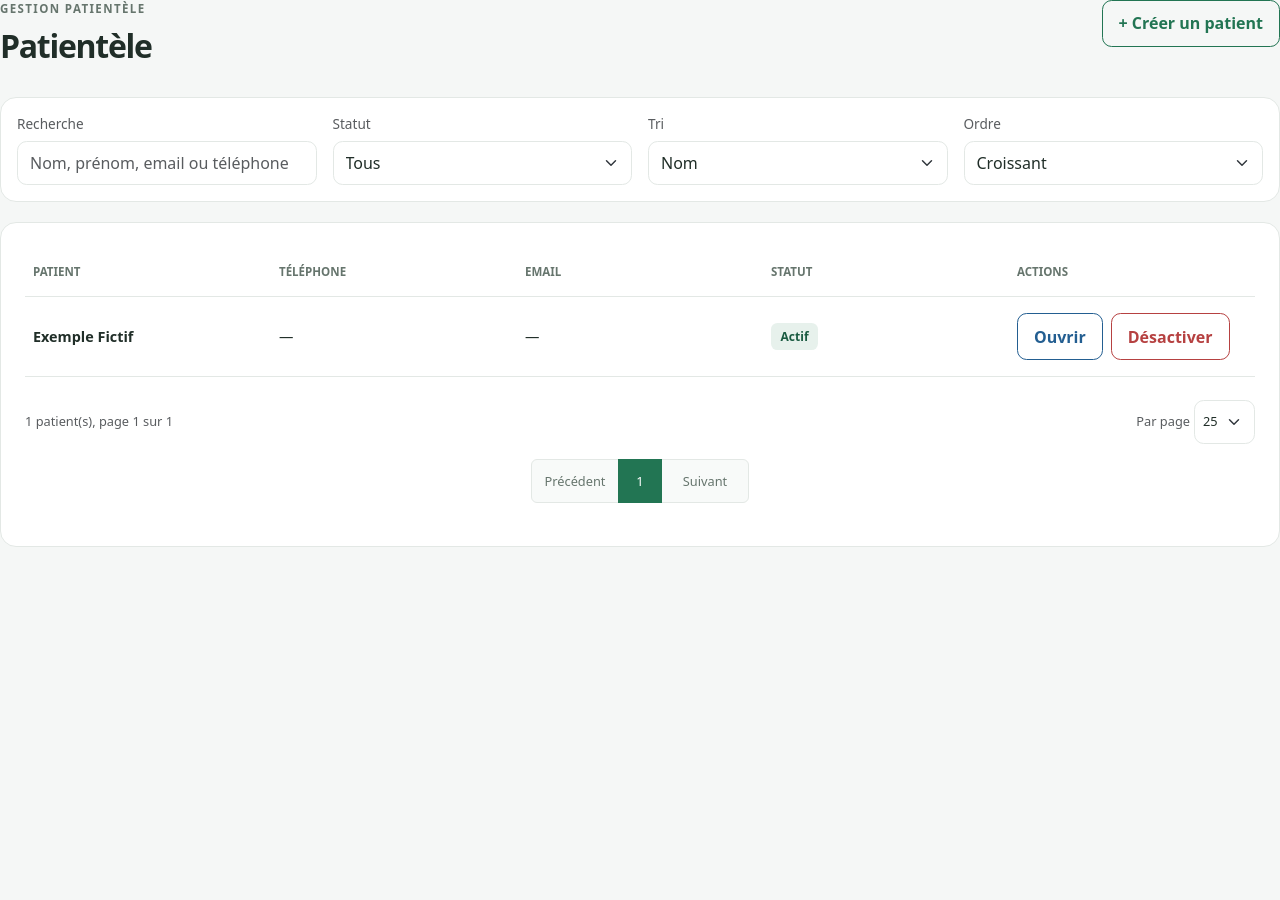
Test: désactiver puis activer : confirmation, couleur, version et actualisation du bouton
Expected: the dropdown labelled "Statut" shows "Tous", [332,141,632,185]
What coordinates should you click on to do the following:
click the button with aria-label "Désactiver Exemple Fictif"
I would click on:
 (1170, 337)
Its box is [1111,313,1230,360].
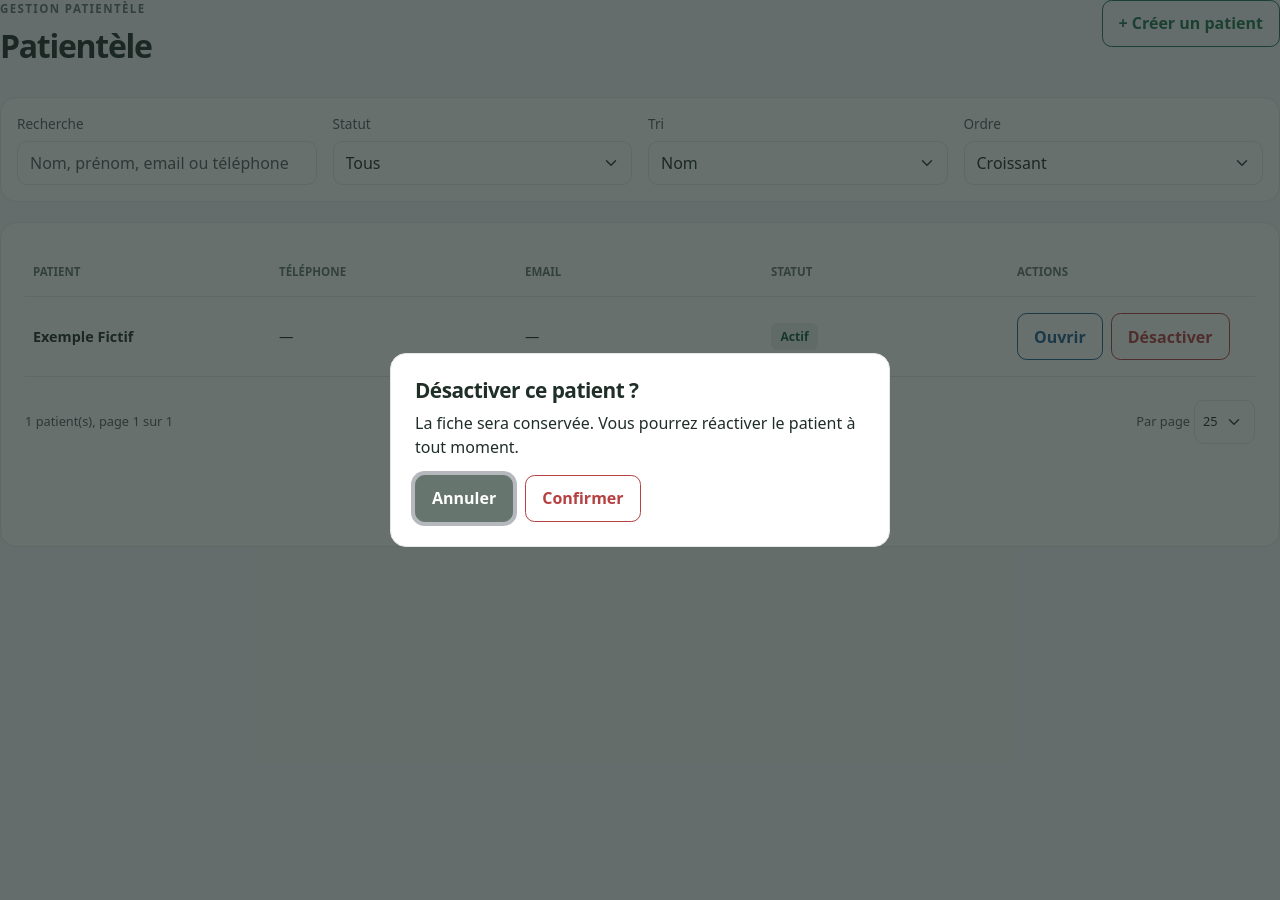
What coordinates should you click on to do the following:
click the button "Confirmer"
I would click on:
 (583, 498)
Its box is [525,475,641,522].
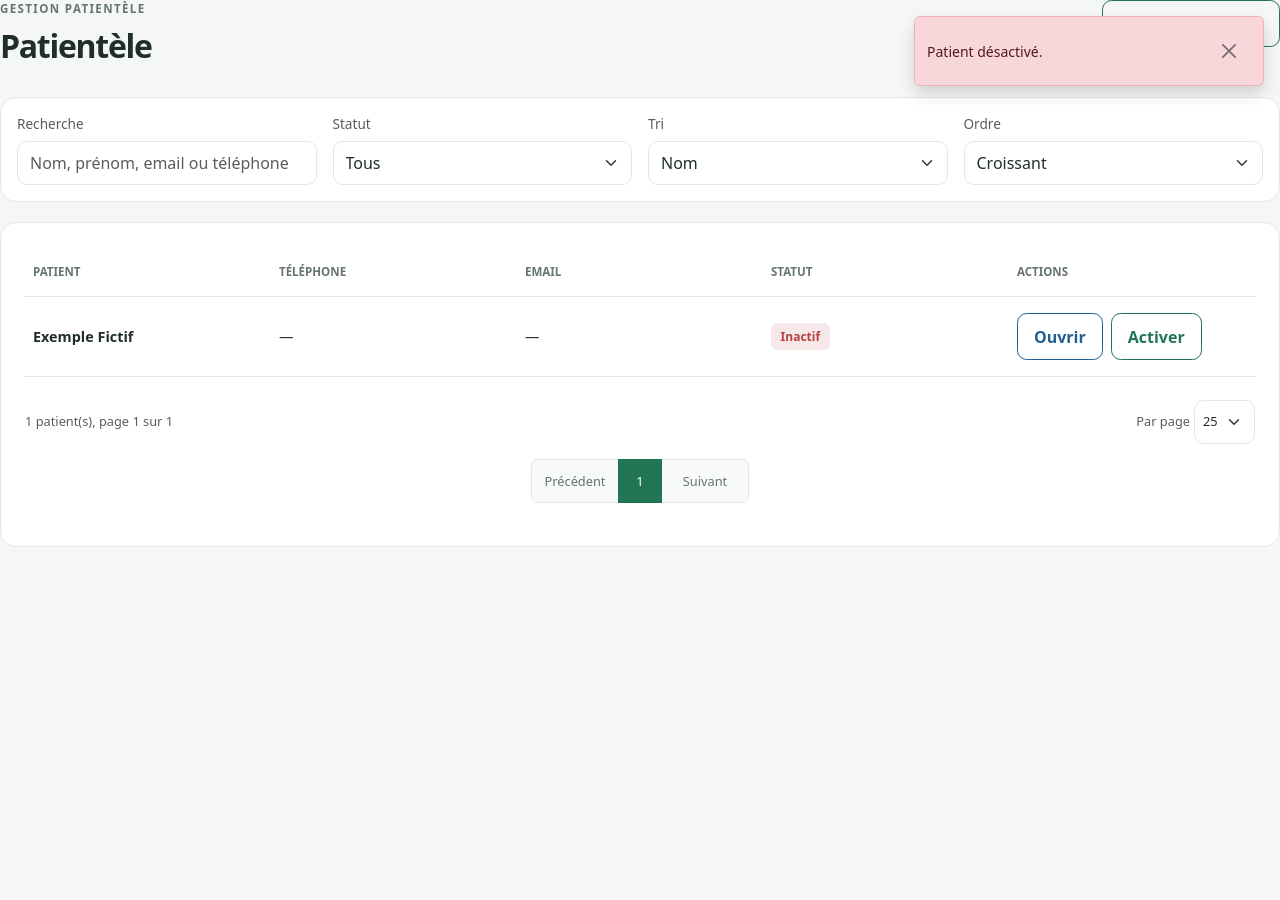
Now the text "Inactif" is shown, box [771,323,830,350]
What coordinates should you click on to do the following:
click the button with aria-label "Activer Exemple Fictif"
I would click on:
 (1156, 337)
Its box is [1111,313,1202,360].
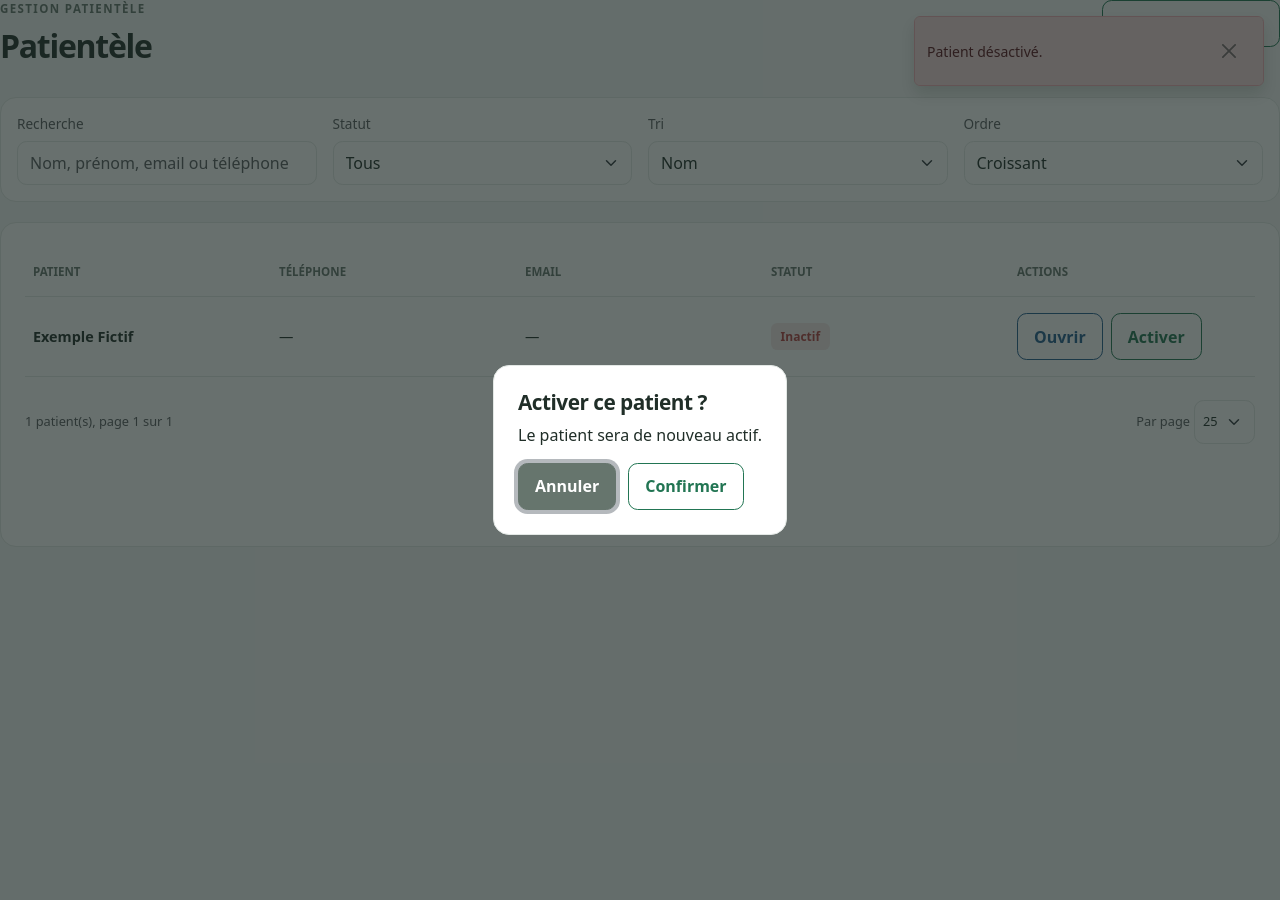
Now the button "Confirmer" has class "btn-outline-success"
What coordinates should you click on to do the following:
click the button "Confirmer"
I would click on:
 (686, 486)
Its box is [628,463,744,510].
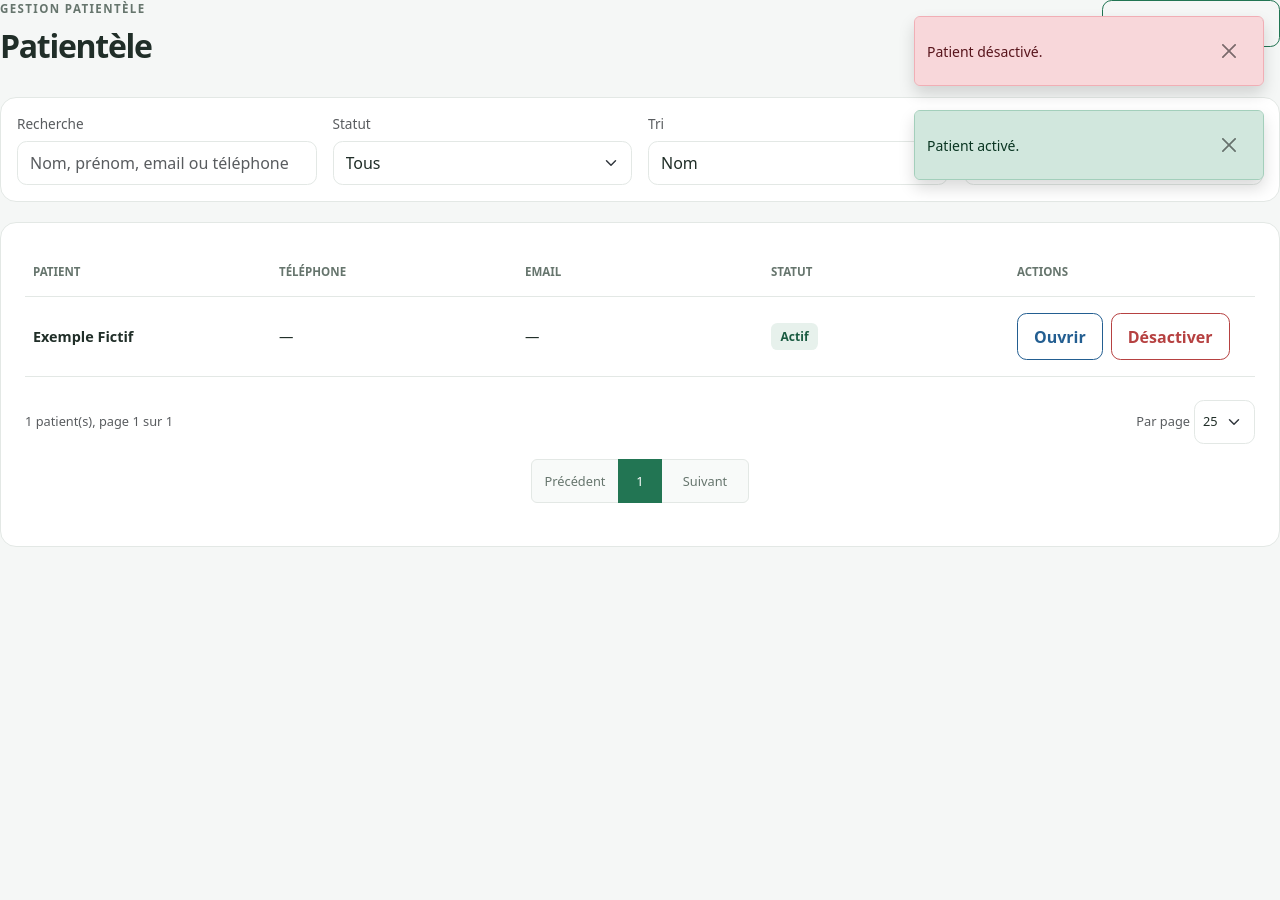
Now the button with aria-label "Désactiver Exemple Fictif" is shown, box [1111,313,1230,360]
